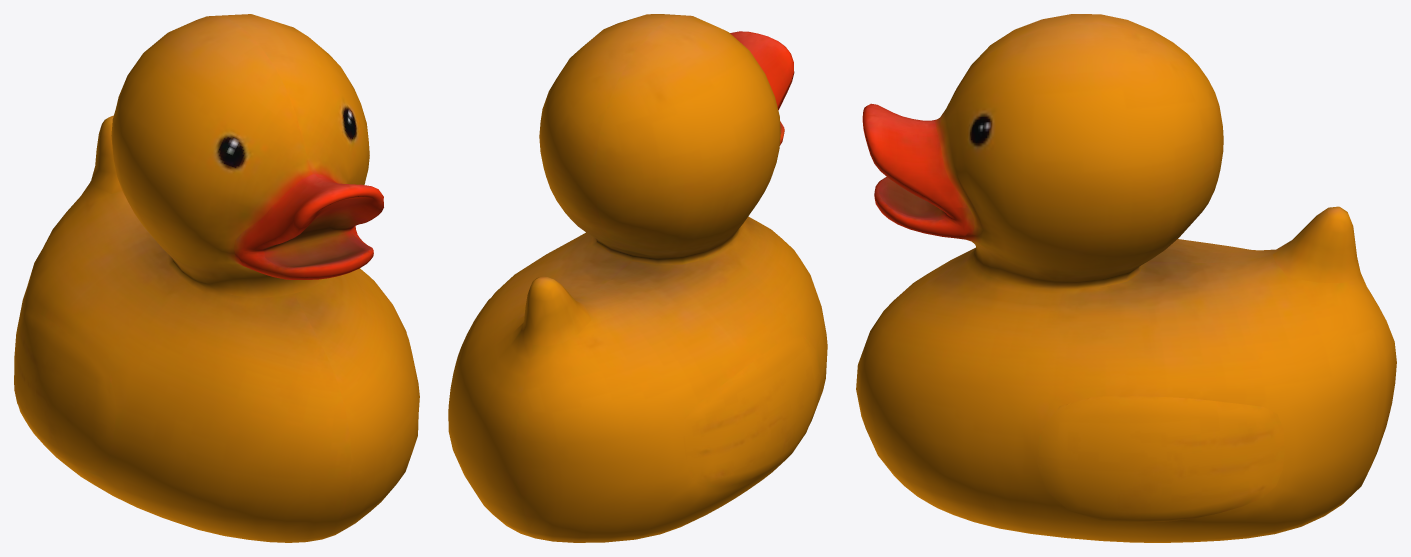
The model's file is rubber_duck_toy.glb.
3 views of the same model, side by side, from view 1: azimuth 30°, elevation 25°; view 2: azimuth 150°, elevation 25°; view 3: azimuth 270°, elevation 25° (orthographic). The views are drawn at different scales.
Parts seen in each view (by area): view 1: rubber_duck_toy; view 2: rubber_duck_toy; view 3: rubber_duck_toy.
Boxes of the visible parts, bbox=[...] form: rubber_duck_toy: bbox=[14, 14, 419, 542]; rubber_duck_toy: bbox=[448, 14, 827, 542]; rubber_duck_toy: bbox=[856, 14, 1396, 542].
Bounding box in the file's own units: 0.2135 × 0.2855 × 0.3.
Materials: 1 (1 with a texture image).
